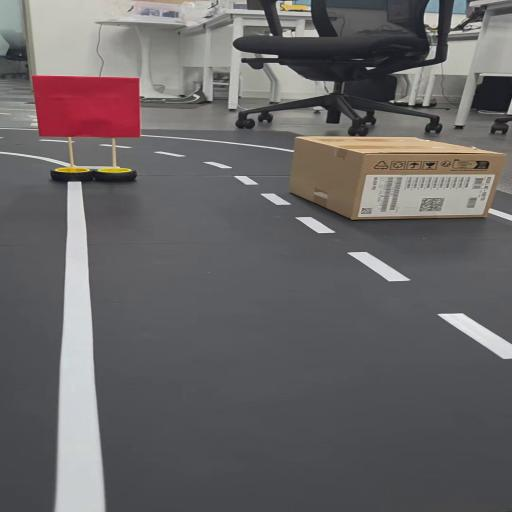Box: (291, 132, 505, 221)
Sign_A: (30, 75, 150, 186)
